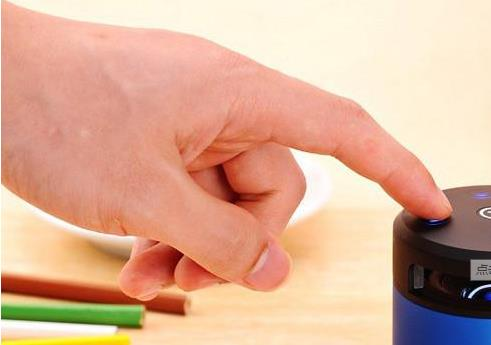up: (43, 12, 457, 314)
